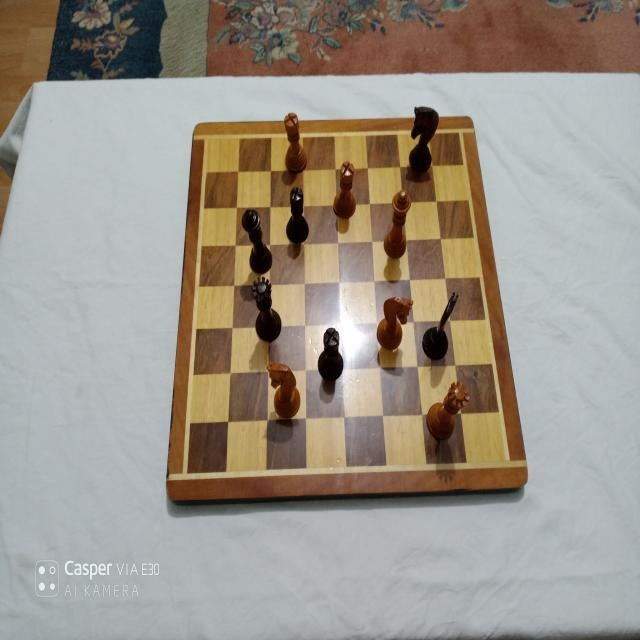black-king: (240, 209, 272, 275)
black-knight: (421, 291, 459, 360), (408, 106, 440, 174)
black-queen: (250, 275, 282, 342)
black-rook: (316, 327, 343, 381), (286, 186, 310, 244)
white-king: (382, 188, 411, 259)
white-knight: (376, 295, 414, 350), (266, 358, 301, 417)
white-queen: (425, 380, 471, 440)
white-rook: (284, 112, 308, 172), (332, 161, 355, 219)
